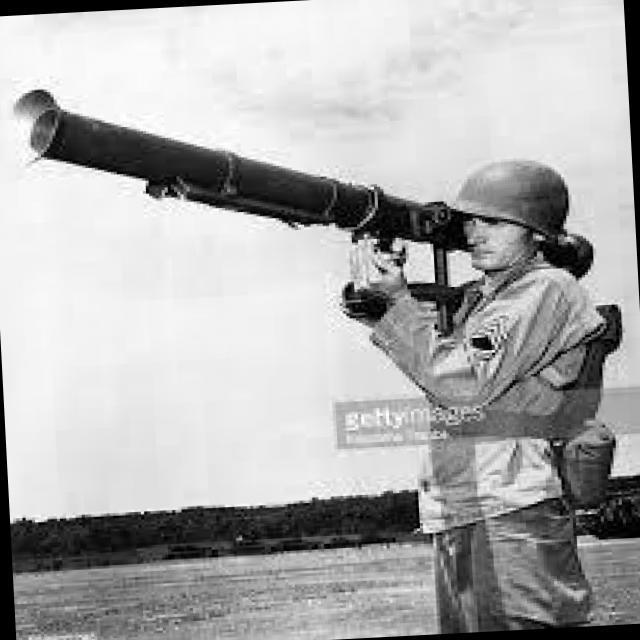rocket: (26, 55, 596, 310)
